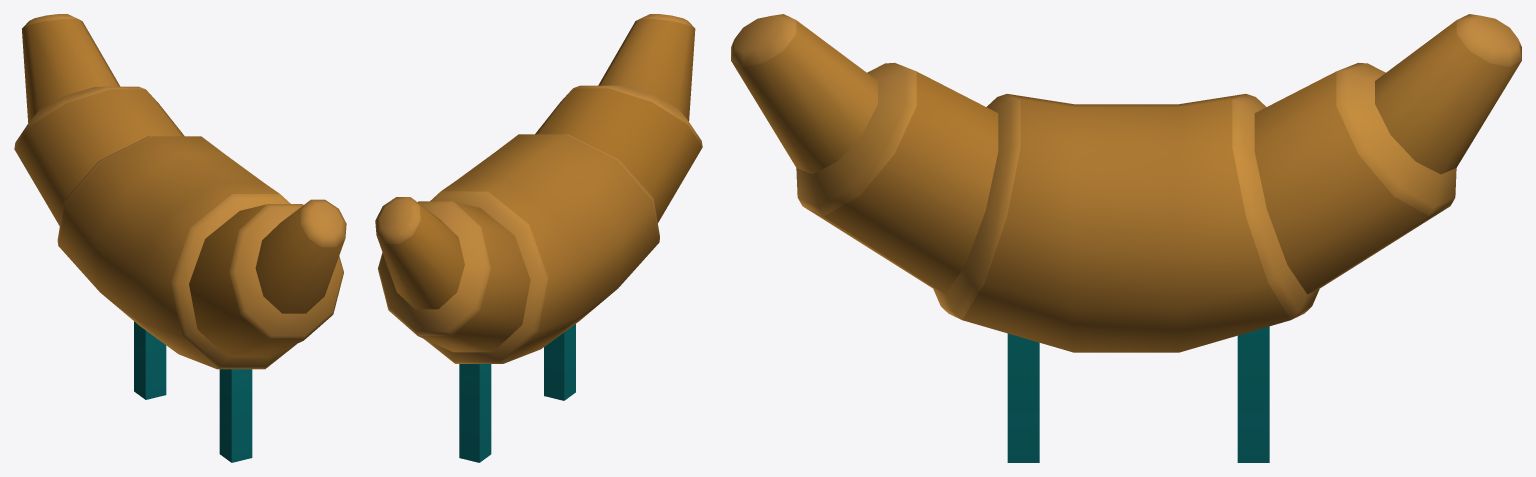
The model's file is BakerySign_1_B.fbx.
3 renders of one model, left to right at view 1: azimuth 30°, elevation 25°; view 2: azimuth 150°, elevation 25°; view 3: azimuth 270°, elevation 25°, orthographic. The views are drawn at different scales.
Parts seen in each view (by area): view 1: BakerySign_1_B; view 2: BakerySign_1_B; view 3: BakerySign_1_B.
Part boxes in pixels (x1=…): BakerySign_1_B: x1=14, y1=14, x2=346, y2=462; BakerySign_1_B: x1=375, y1=14, x2=702, y2=462; BakerySign_1_B: x1=731, y1=14, x2=1521, y2=462.
Bounding box in the file's own units: 73.64 × 135 × 224.
